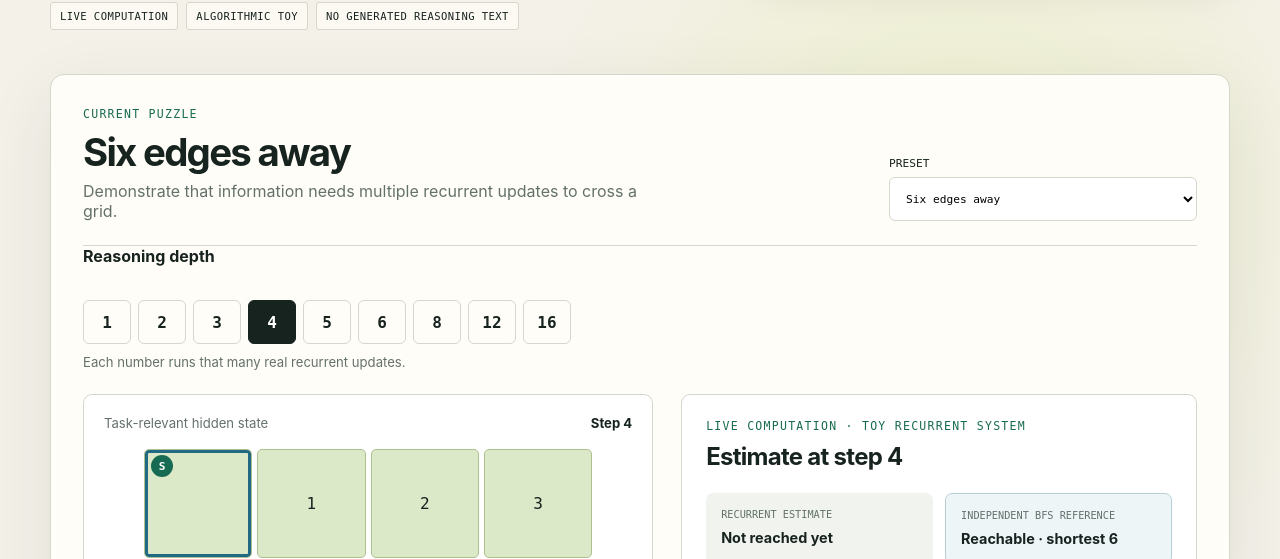
Test case: interactive learning experience › switches presets and exposes computed saturation
This screenshot has width=1280, height=559.
(page scrolled)
Select "Limitation · More work, same answer" in the dropdown labelled "Preset": [1043, 199] box x1=889 y1=177 x2=1197 y2=221
(page scrolled)
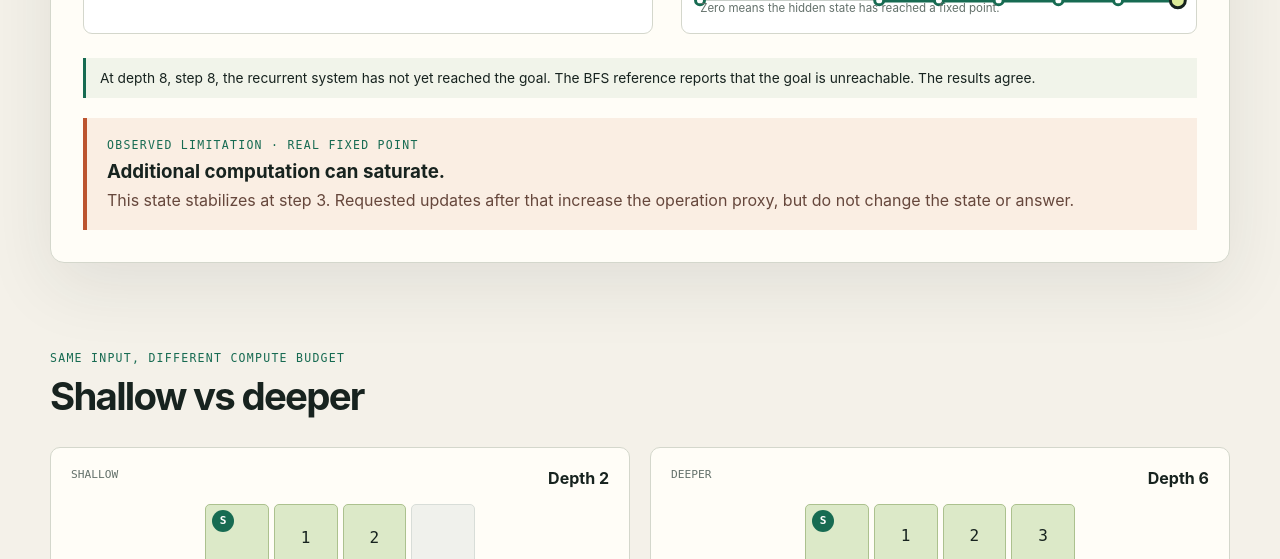
Expected: the heading "Additional computation can saturate." is shown, x1=107 y1=160 x2=445 y2=183
Expected: the text "stabilizes at step 3" is shown, x1=107 y1=190 x2=1177 y2=210
